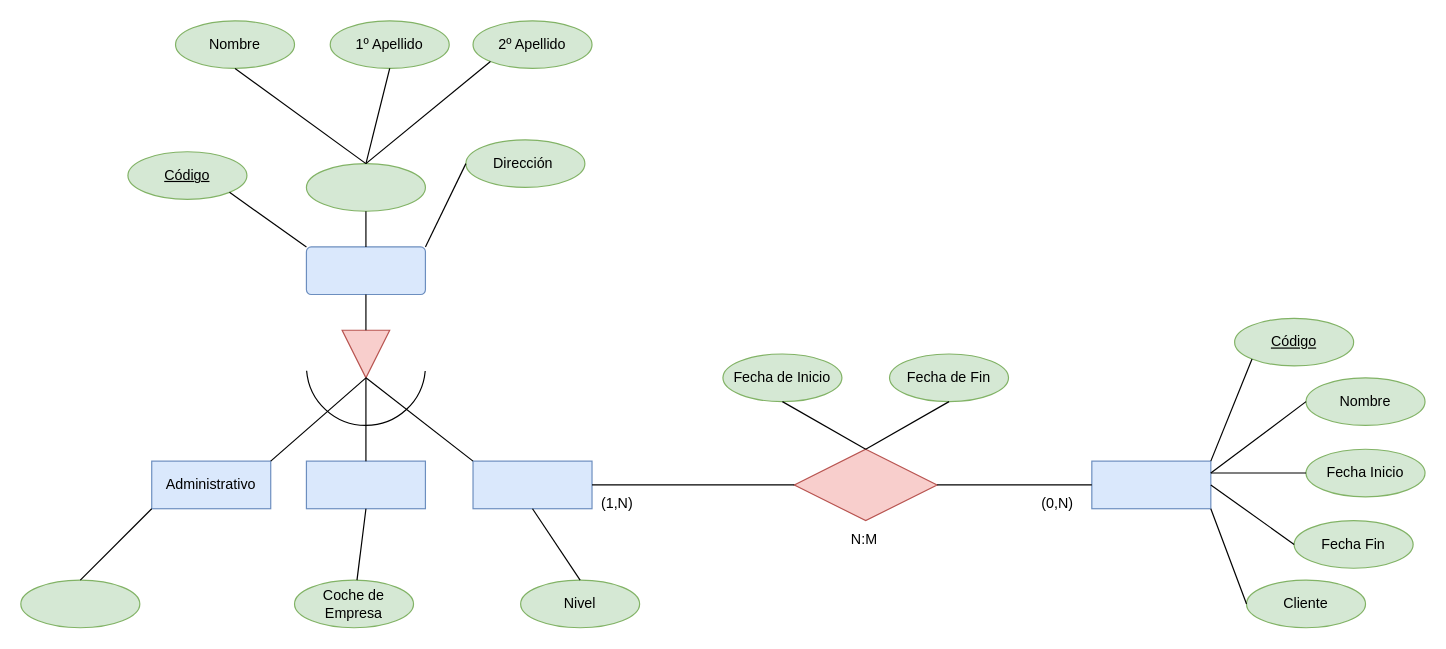
This 1446x649 diagram has some shape labels left out. The centre of each missing label's shape, as x and y in pixels:
"(Nombre Completo)" belongs at [365,186].
"Antigüedad" belongs at [80,603].
"Directivo" belongs at [365,484].
"Empleados" belongs at [365,270].
"Proyecto" belongs at [1151,484].
"Trabaja" belongs at [865,484].
"Técnicos" belongs at [532,484].
